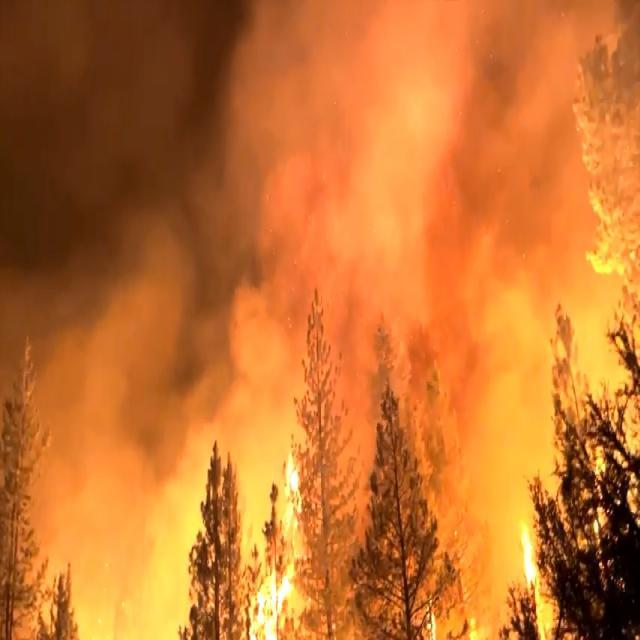Fire: (246, 440, 554, 640)
